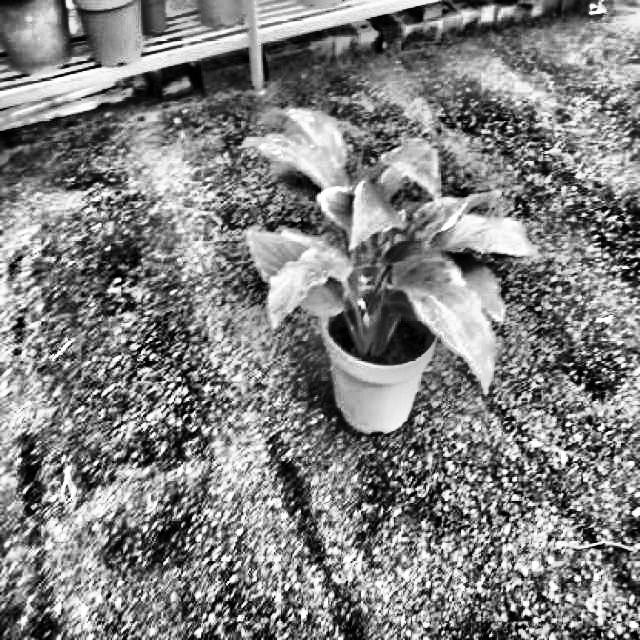plants: (222, 100, 538, 397)
